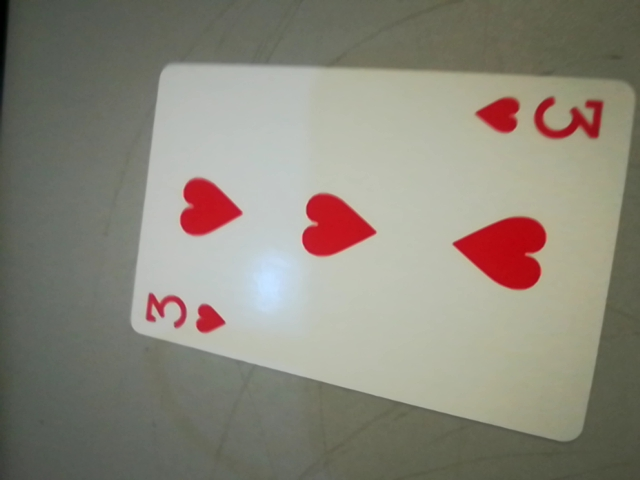hx 3: (472, 88, 616, 149)
